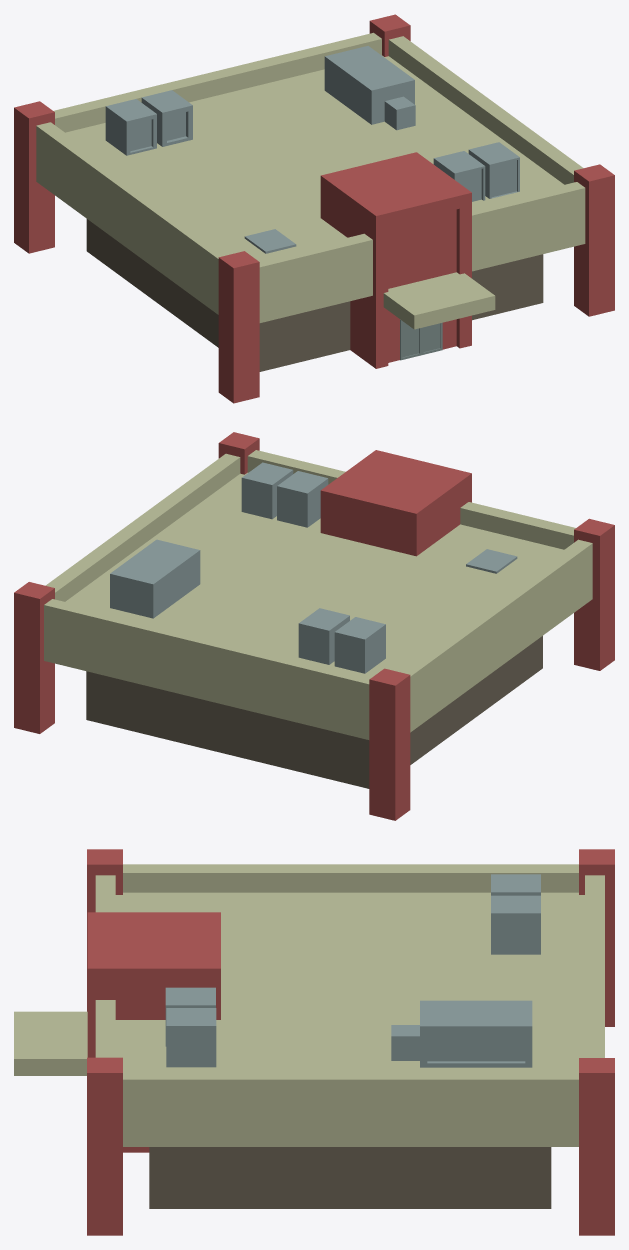
The model's file is SuperMarket.fbx.
3 views of the same model, one above another, from view 1: azimuth 30°, elevation 25°; view 2: azimuth 150°, elevation 25°; view 3: azimuth 270°, elevation 25° (orthographic). The views are drawn at different scales.
Visible parts, largest first — view 1: Cube.001, Cube.002, Cube, Cube.004, Cube.003, Cube.005, Cube.014, Cube.008, Cube.009, Cube.010, Cube.012, Cube.013 (+4 smaller); view 2: Cube.001, Cube, Cube.002, Cube.005, Cube.006, Cube.014, Cube.004, Cube.009, Cube.013, Cube.010, Cube.012, Cube.003 (+1 smaller); view 3: Cube.001, Cube, Cube.002, Cube.014, Cube.003, Cube.006, Cube.008, Cube.012, Cube.010, Cube.005, Cube.004, Cube.013 (+2 smaller).
Part boxes in pixels (x1,y1,x2,y2): Cube.001: (36,32,585,322); Cube.002: (320,152,471,368); Cube: (86,219,543,371); Cube.004: (218,251,259,403); Cube.003: (574,164,614,316); Cube.005: (14,101,54,253); Cube.014: (324,46,414,124); Cube.008: (383,272,495,329); Cube.009: (105,99,156,155); Cube.010: (141,90,192,146); Cube.012: (468,142,519,198); Cube.013: (433,151,485,201); Cube.001: (44,450,592,739); Cube: (86,636,542,788); Cube.002: (320,450,471,556); Cube.005: (369,668,410,820); Cube.006: (14,582,54,733); Cube.014: (110,539,200,618); Cube.004: (574,518,614,670); Cube.009: (334,617,385,673); Cube.013: (277,471,328,527); Cube.010: (298,608,349,664); Cube.012: (241,462,293,519); Cube.003: (218,432,259,474); Cube.001: (95,864,604,1146); Cube: (149,1147,551,1208); Cube.002: (87,912,220,1152); Cube.014: (420,1000,532,1067); Cube.003: (87,1057,122,1235); Cube.006: (579,1058,614,1235); Cube.008: (14,1011,87,1075); Cube.012: (166,1008,216,1067); Cube.010: (491,895,540,954); Cube.005: (579,849,614,1026); Cube.004: (87,849,122,1011); Cube.013: (165,987,215,1046).
Size of the model in its own units: 4122 by 1579 by 4678.
